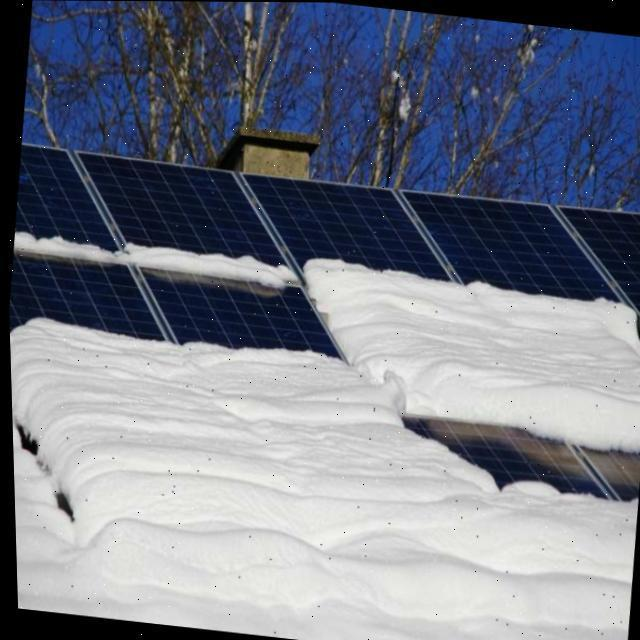Anomaly Solar Panel: (7, 144, 640, 640), (69, 150, 308, 280), (12, 144, 134, 261)
Snow: (7, 315, 640, 640), (294, 261, 640, 458), (120, 231, 300, 289), (11, 227, 126, 268)
